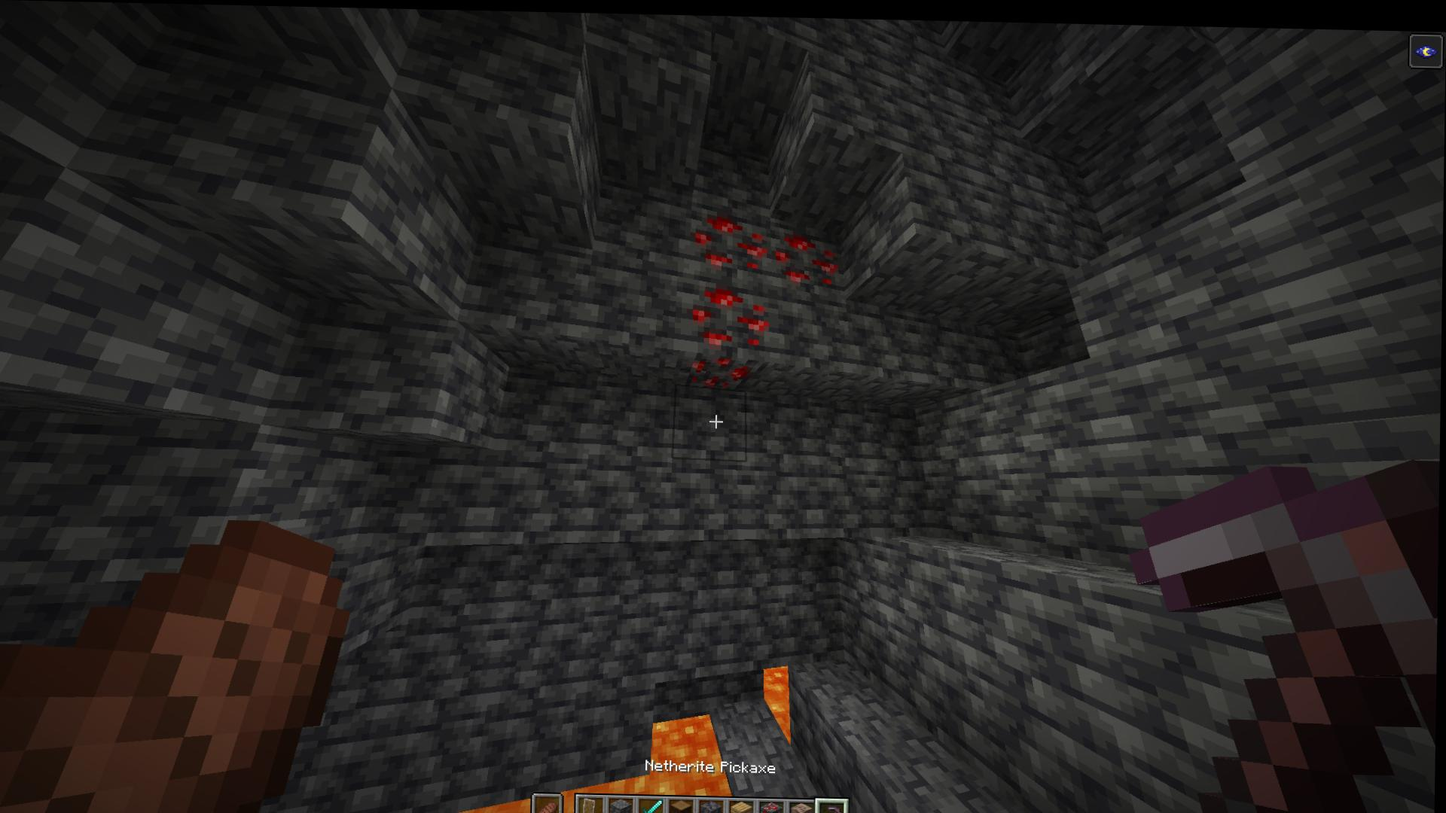redstone ore: (688, 274, 774, 348), (764, 217, 845, 293), (697, 204, 769, 280), (682, 344, 758, 395)
